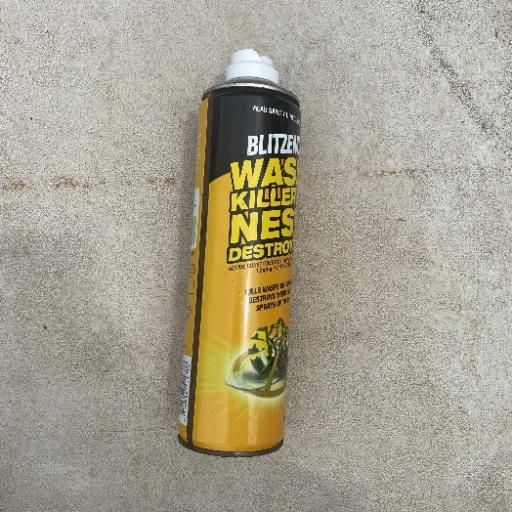Metal: (175, 50, 303, 457)
